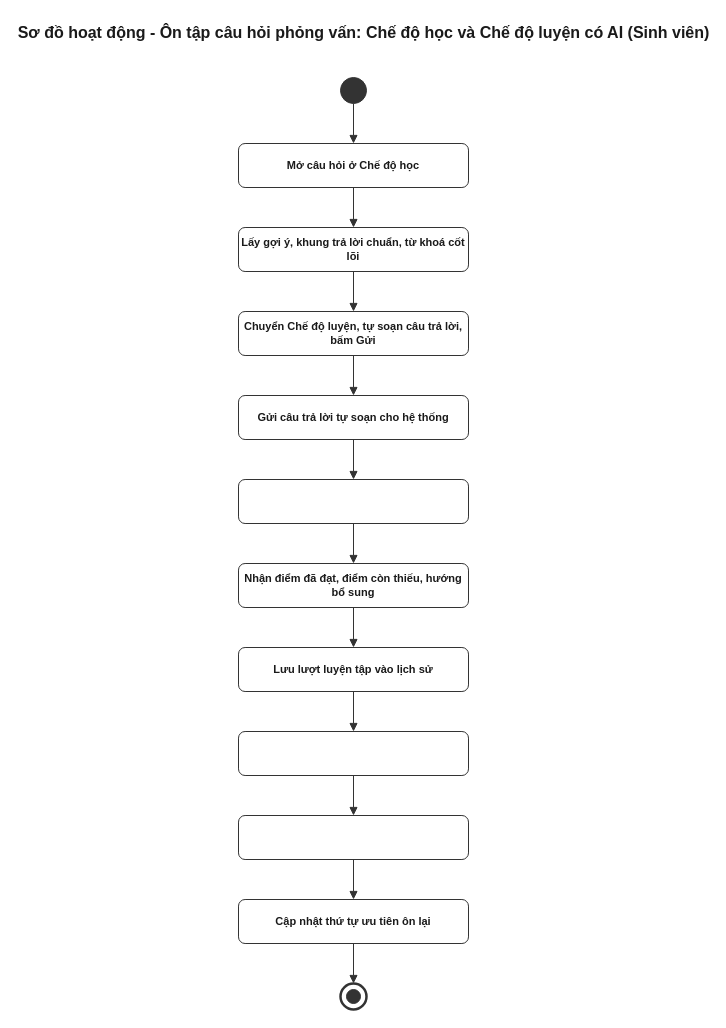
The diagram is 726 pixels wide and 1028 high, and some of its shapes have lost their labels. The shapes that lost their labels are listed below. From the top down, each one's centre as x and y in pixels, then its label:
At point (353, 501): "Đối chiếu câu trả lời với tiêu chí chuẩn qua LLM (tham số dữ liệu)".
At point (353, 753): "Hiện điểm đã đạt/còn thiếu/hướng bổ sung".
At point (353, 837): "Tự chấm mức độ nhớ (Biết rõ / Mơ hồ / Quên)".
